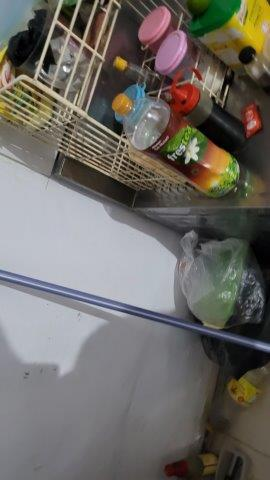botolplastik: (111, 93, 241, 197)
